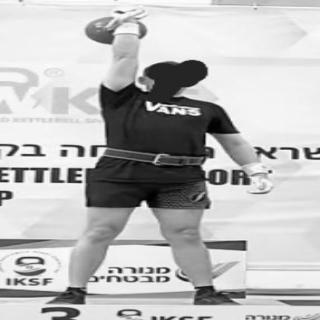kettlebell: (83, 9, 152, 47)
